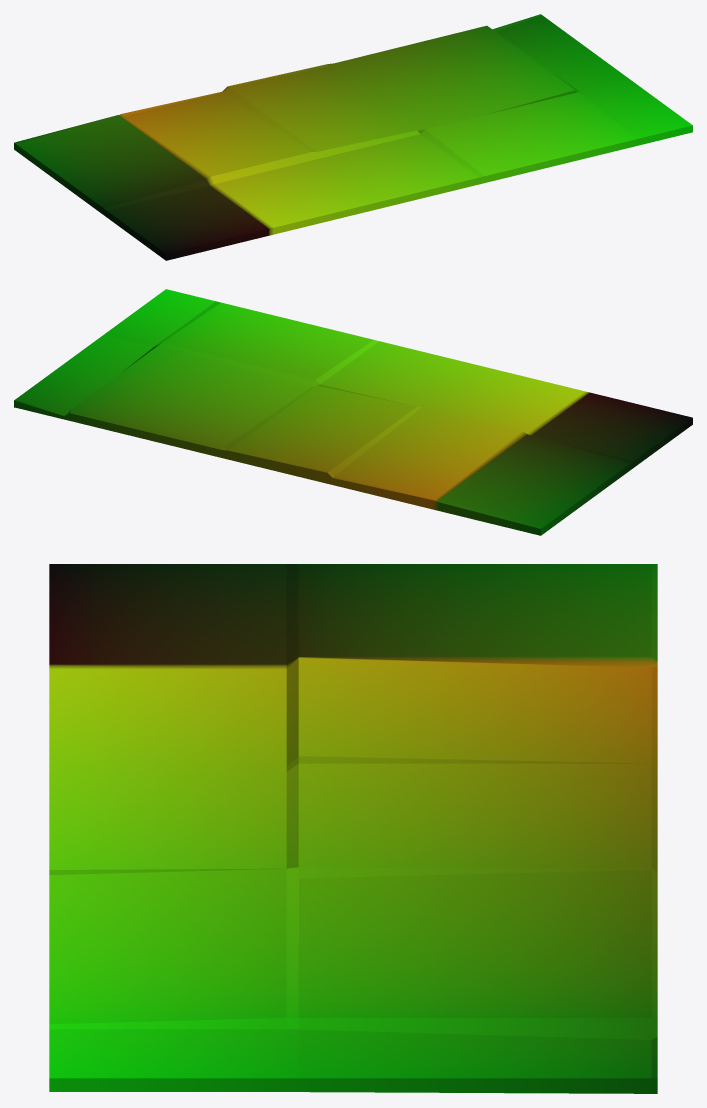
The model's file is SM_Human_Sidewalks510_02.FBX.
The picture shows the model from 3 angles, top to bottom: view 1: azimuth 30°, elevation 25°; view 2: azimuth 150°, elevation 25°; view 3: azimuth 270°, elevation 25°; orthographic projection. The views are drawn at different scales.
Visible parts, largest first — view 1: Plane475; view 2: Plane475; view 3: Plane475.
Boxes of the visible parts, x1,y1,x2,y2 form: Plane475: (14,14,692,260); Plane475: (14,289,692,535); Plane475: (49,564,657,1093).
Bounding box in the file's own units: 1000 × 500 × 24.14.
